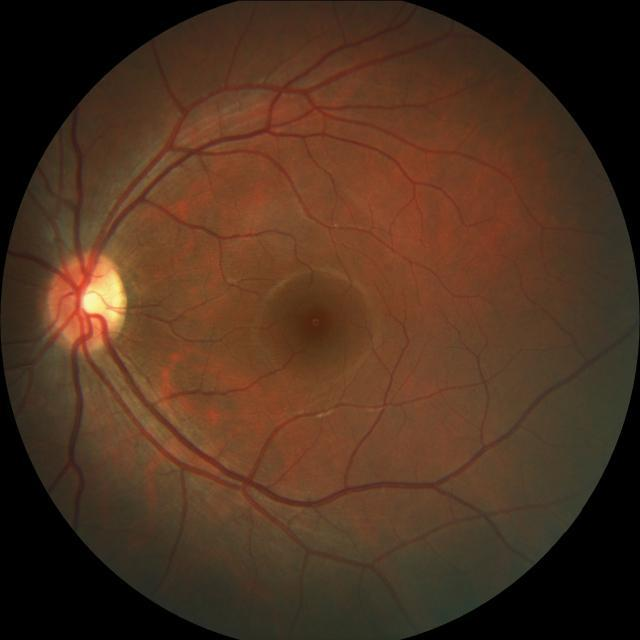OC: (82, 272, 121, 319)
OD: (46, 250, 128, 350)
